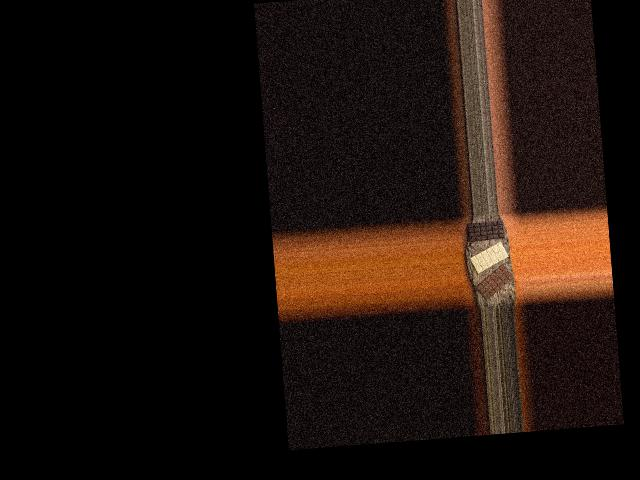chocolate: (466, 219, 504, 241)
